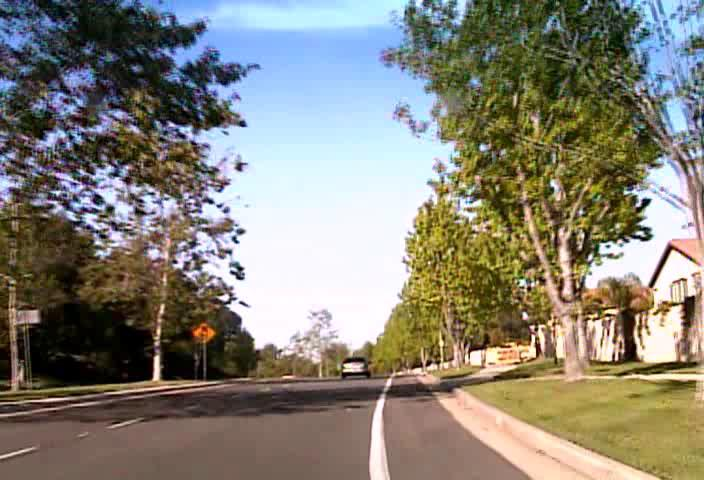signalAhead: (189, 321, 216, 346)
